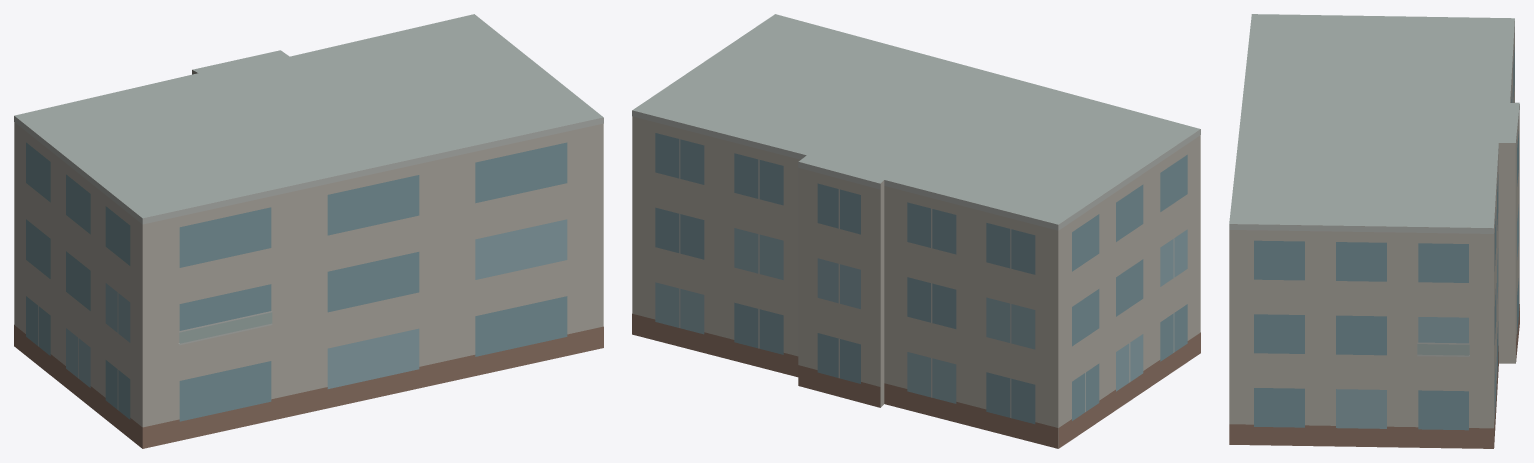
File: survey-upis-33019343.glb
The picture shows the model from 3 angles, left to right: view 1: azimuth 30°, elevation 25°; view 2: azimuth 150°, elevation 25°; view 3: azimuth 270°, elevation 25°; orthographic projection. The views are drawn at different scales.
Parts seen in each view (by area): view 1: survey-upis-33019343.tmp; view 2: survey-upis-33019343.tmp; view 3: survey-upis-33019343.tmp.
Part boxes in pixels (box(x1,y1,x2,y2)): survey-upis-33019343.tmp: box(14, 14, 603, 448); survey-upis-33019343.tmp: box(632, 14, 1200, 448); survey-upis-33019343.tmp: box(1229, 14, 1519, 448).
Bounding box in the file's own units: 19.05 × 9.15 × 10.93.
